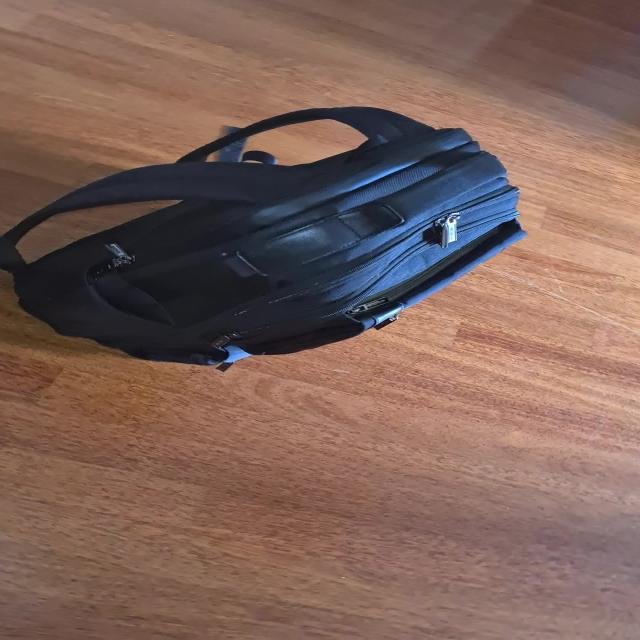backpack: (0, 94, 540, 362)
